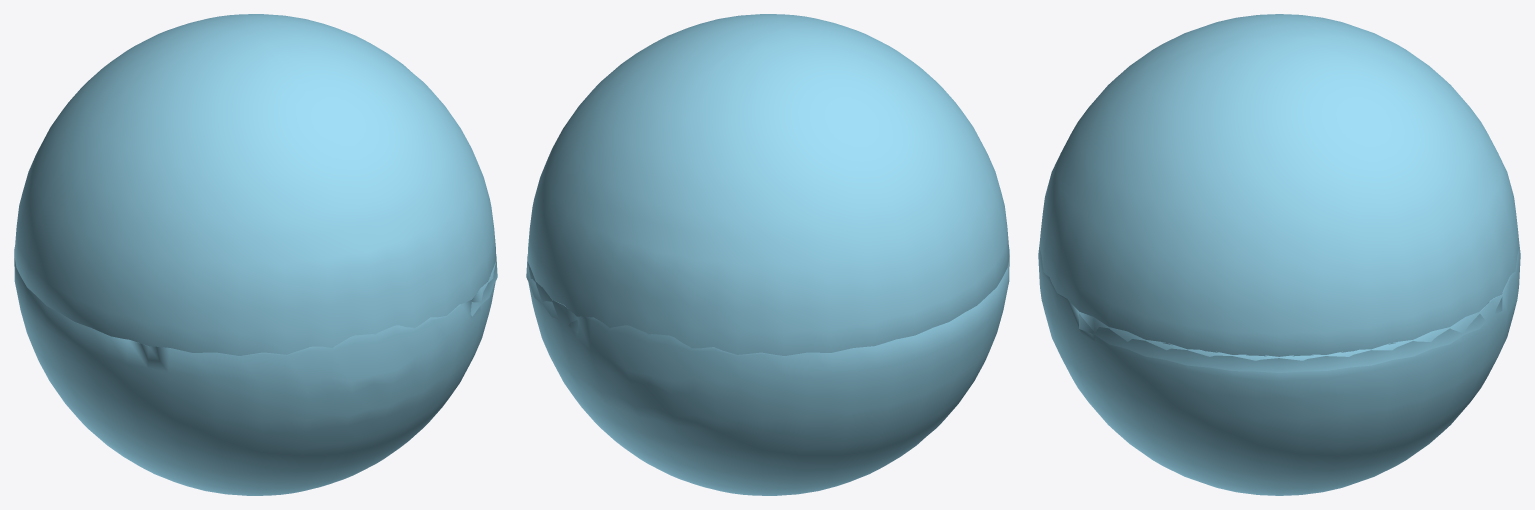
The model's file is universalAxion7.gltf.
3 renders of one model, left to right at view 1: azimuth 30°, elevation 25°; view 2: azimuth 150°, elevation 25°; view 3: azimuth 270°, elevation 25°, orthographic.
Parts seen in each view (by area): view 1: Sphere..Topp, Sphere.Bottom; view 2: Sphere..Topp, Sphere.Bottom; view 3: Sphere..Topp, Sphere.Bottom.
Part boxes in pixels (<box>): Sphere..Topp: <box>14,14,495,355</box>; Sphere.Bottom: <box>14,247,497,495</box>; Sphere..Topp: <box>528,14,1009,355</box>; Sphere.Bottom: <box>526,247,1009,495</box>; Sphere..Topp: <box>1039,14,1519,356</box>; Sphere.Bottom: <box>1038,244,1520,495</box>.
Bounding box in the file's own units: 1.26 × 1.25 × 1.25.
